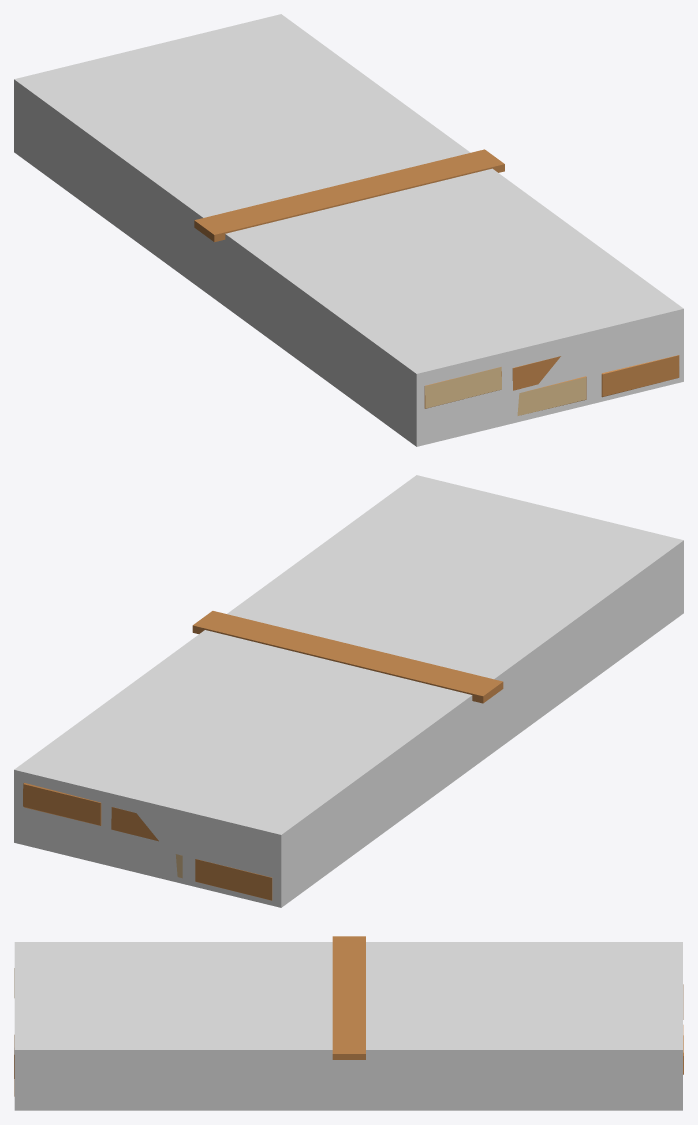
The model's file is prop_planks_a.glb.
3 views of the same model, one above another, from view 1: azimuth 30°, elevation 25°; view 2: azimuth 150°, elevation 25°; view 3: azimuth 270°, elevation 25° (orthographic). The views are drawn at different scales.
Visible parts, largest first — view 1: COL_prop_planks_a_1, prop_planks_a; view 2: COL_prop_planks_a_1, prop_planks_a; view 3: COL_prop_planks_a_1, prop_planks_a.
Part boxes in pixels (x1=…): COL_prop_planks_a_1: x1=14, y1=14, x2=683, y2=446; prop_planks_a: x1=194, y1=149, x2=679, y2=415; COL_prop_planks_a_1: x1=14, y1=475, x2=683, y2=907; prop_planks_a: x1=23, y1=611, x2=503, y2=900; COL_prop_planks_a_1: x1=14, y1=942, x2=682, y2=1110; prop_planks_a: x1=14, y1=936, x2=683, y2=1096.
Size of the model in its own units: 0.5 by 0.1241 by 1.2.
